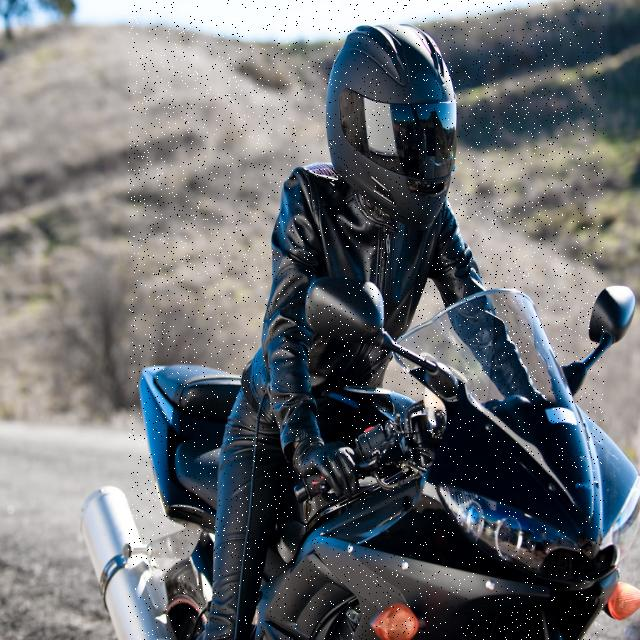With Helmet: (128, 0, 604, 640)
